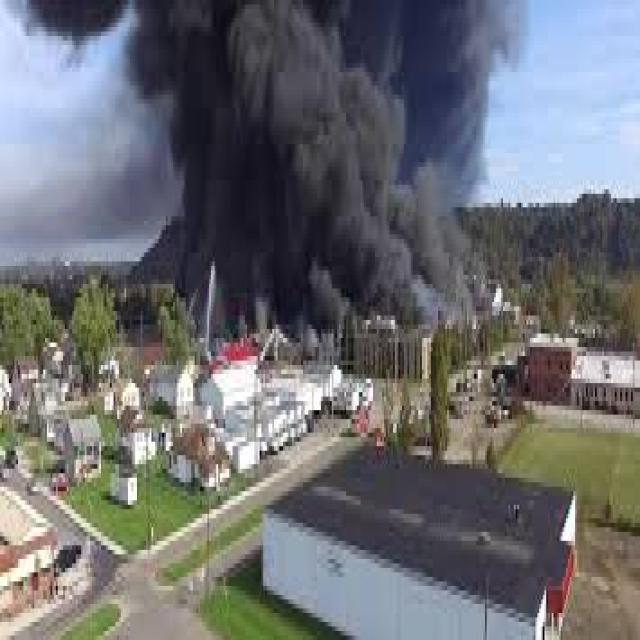Smoke: (0, 0, 530, 361)
